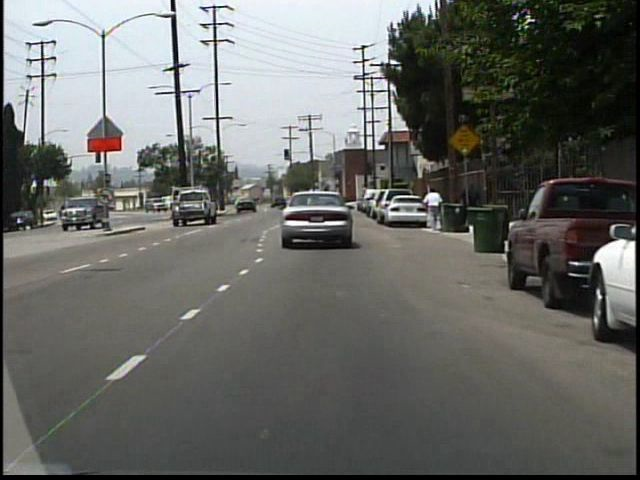person: (424, 187, 444, 234)
